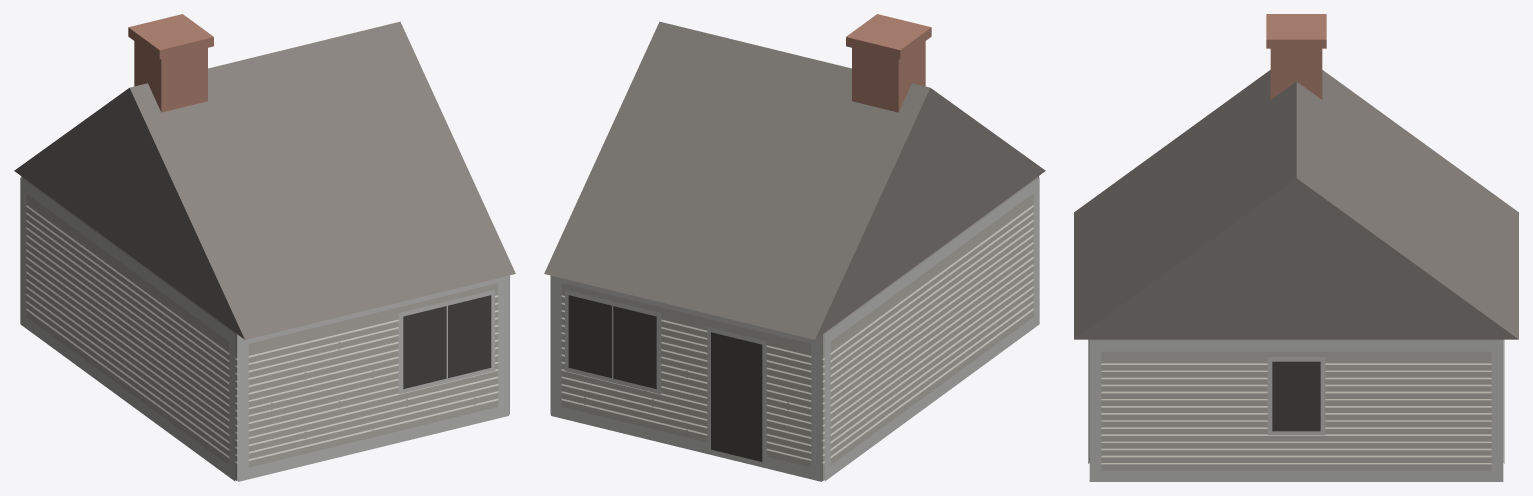
File: recon_1835_west_030__inferred_1835.glb
3 views of the same model, side by side, from view 1: azimuth 30°, elevation 25°; view 2: azimuth 150°, elevation 25°; view 3: azimuth 270°, elevation 25° (orthographic). The views are drawn at different scales.
Visible parts, largest first — view 1: recon_1835_west_030__inferred_1835; view 2: recon_1835_west_030__inferred_1835; view 3: recon_1835_west_030__inferred_1835.
Part boxes in pixels (box(x1,y1,x2,y2)): recon_1835_west_030__inferred_1835: box(14, 14, 515, 481); recon_1835_west_030__inferred_1835: box(544, 14, 1045, 481); recon_1835_west_030__inferred_1835: box(1074, 14, 1518, 481).
Size of the model in its own units: 4.96 by 6.2 by 7.21.
